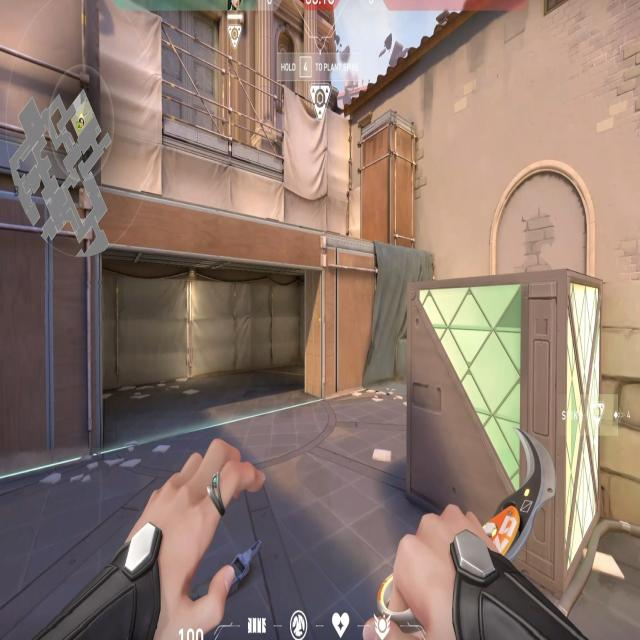A_Heaven_Box: (353, 101, 419, 250)
A_Hell: (74, 206, 337, 455)
A_Site_Box: (392, 256, 640, 575)
